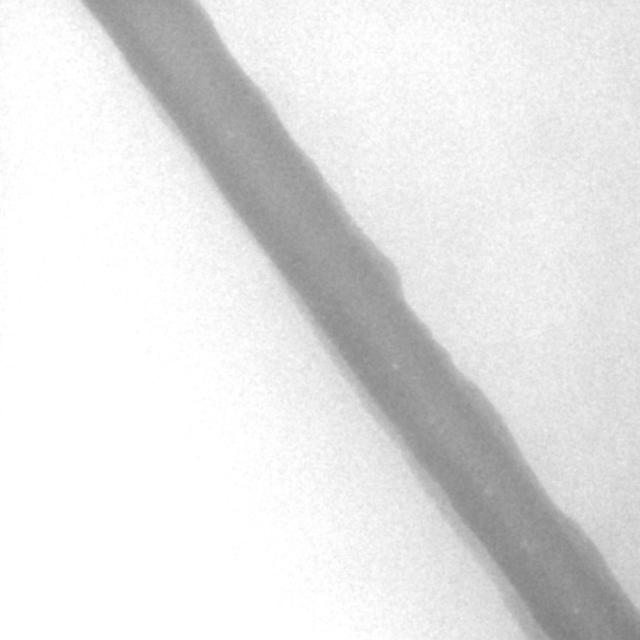air-hole: (485, 487, 492, 498), (391, 361, 399, 370), (522, 541, 528, 547), (574, 609, 581, 614), (427, 411, 433, 416), (441, 426, 442, 434)
